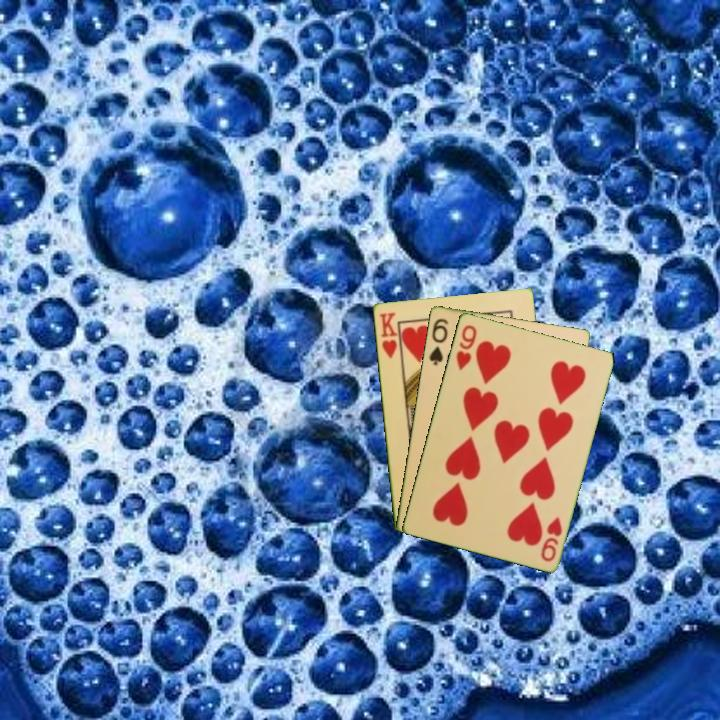6s: (425, 315, 451, 368)
9h: (537, 513, 565, 564), (452, 321, 479, 373)
Kh: (376, 309, 403, 362)
